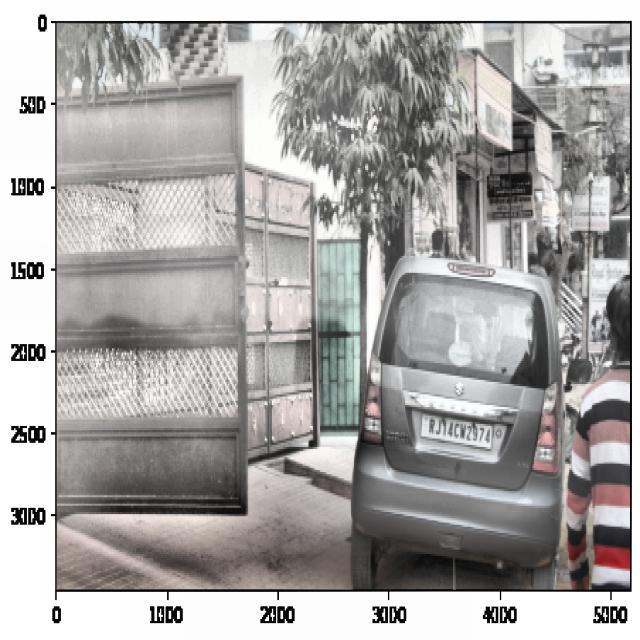license_plate: (426, 413, 494, 450)
